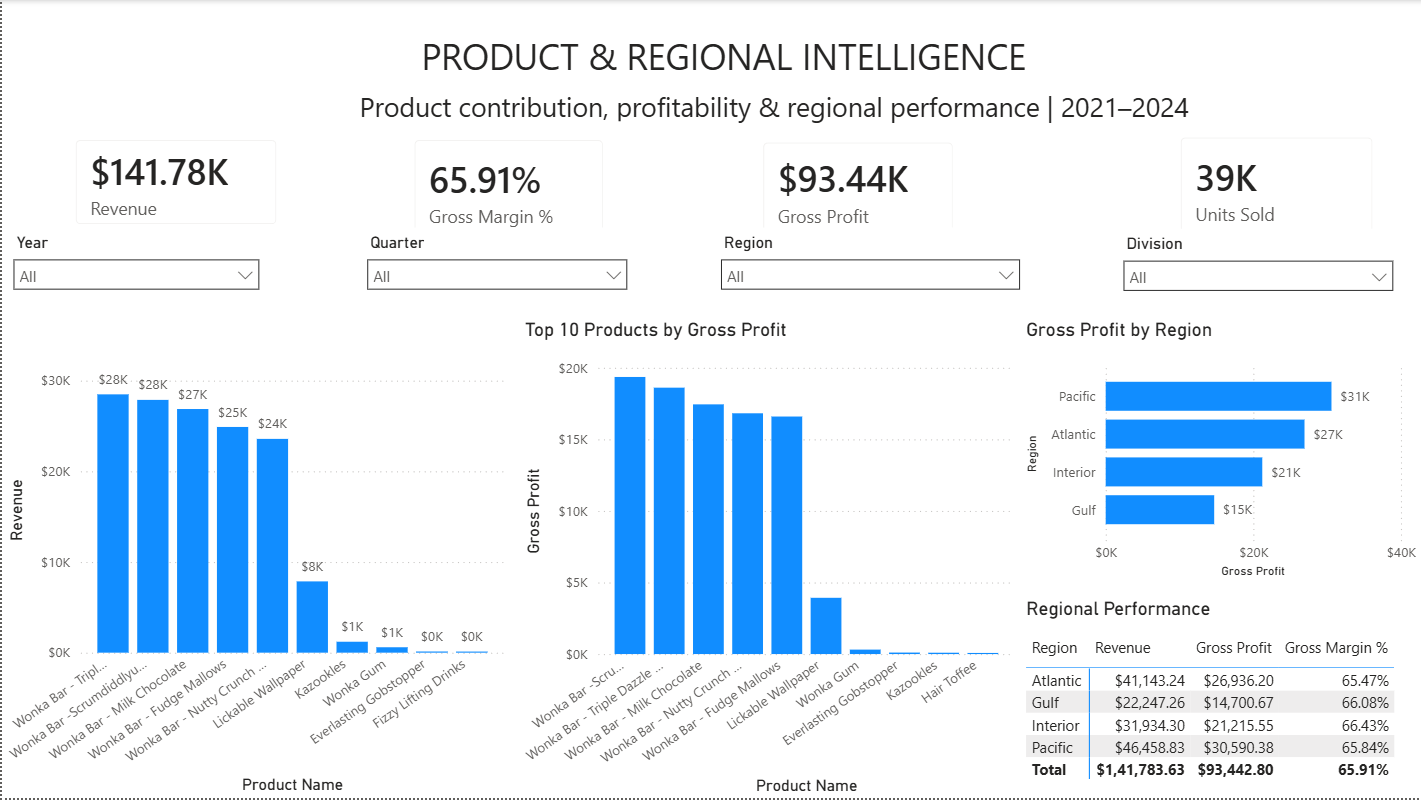

This screenshot's page, from the dashboard's own definition file:
{"tool":"powerbi","page":{"name":"│ PRODUCT & REGIONAL INTELLIGENCE                            │","canvas":[1280,720],"ordinal":2},"visuals":[{"type":"textbox","box":[365.7,23.6,571,52.2],"z":0},{"type":"textbox","box":[243.8,75.9,905.6,48.5],"z":1000},{"type":"cardVisual","fields":{"Data":["_Measures.Gross Margin %"]},"box":[355.4,109.8,204,124.4],"z":2000},{"type":"cardVisual","fields":{"Data":["_Measures.Units Sold"]},"box":[1045.6,107,207.7,124.4],"z":3000},{"type":"cardVisual","fields":{"Data":["_Measures.Revenue"]},"box":[49.4,109.8,215.2,110.7],"z":4000},{"type":"cardVisual","fields":{"Data":["_Measures.Gross Profit"]},"box":[669.6,111.1,205.3,119.4],"z":5000},{"type":"slicer","fields":{"Values":["DimDate.Date.Variation.Date Hierarchy.Quarter"]},"box":[318.5,205.3,255,111.7],"z":6000},{"type":"slicer","fields":{"Values":["DimCustomer.Region"]},"box":[638.3,205,290,111.7],"z":7000},{"type":"slicer","fields":{"Values":["DimDivision.Division"]},"box":[1001.4,206.5,263.3,111.7],"z":8000},{"type":"columnChart","title":"Product Revenue Ranking","fields":{"Category":["DimProduct.Product Name"],"Y":["_Measures.Revenue"]},"box":[0,287.4,457.8,432.9],"z":9000},{"type":"clusteredColumnChart","title":"Top 10 Products by Gross Profit","fields":{"Category":["DimProduct.Product Name"],"Y":["_Measures.Gross Profit"]},"box":[466.5,287.4,451.6,434.1],"z":10000},{"type":"clusteredBarChart","title":"Gross Profit by Region","fields":{"Y":["_Measures.Gross Profit"],"Category":["DimCustomer.Region"]},"box":[918,287.4,362,238.8],"z":11000},{"type":"pivotTable","title":"Regional Performance","fields":{"Rows":["DimCustomer.Region"],"Values":["_Measures.Revenue","_Measures.Gross Profit","_Measures.Gross Margin %"]},"box":[918,538.6,362,181.6],"z":12000},{"type":"slicer","fields":{"Values":["DimDate.Date.Variation.Date Hierarchy.Year"]},"box":[0,205.3,241.7,111.7],"z":13000}]}

Visuals, with their boxes in screenshot pixels (x1, y1, x2, y2), scaled from the page's 1280x720 canvas onto the 1421x800 screenshot:
textbox: bbox(406, 26, 1040, 84)
textbox: bbox(271, 84, 1276, 138)
cardVisual - _Measures.Gross Margin %: bbox(395, 122, 621, 260)
cardVisual - _Measures.Units Sold: bbox(1161, 119, 1391, 257)
cardVisual - _Measures.Revenue: bbox(55, 122, 294, 245)
cardVisual - _Measures.Gross Profit: bbox(743, 123, 971, 256)
slicer - DimDate.Date.Variation.Date Hierarchy.Quarter: bbox(354, 228, 637, 352)
slicer - DimCustomer.Region: bbox(709, 228, 1031, 352)
slicer - DimDivision.Division: bbox(1112, 229, 1404, 354)
"Product Revenue Ranking" columnChart: bbox(0, 319, 508, 799)
"Top 10 Products by Gross Profit" clusteredColumnChart: bbox(518, 319, 1019, 799)
"Gross Profit by Region" clusteredBarChart: bbox(1019, 319, 1420, 585)
"Regional Performance" pivotTable: bbox(1019, 598, 1420, 799)
slicer - DimDate.Date.Variation.Date Hierarchy.Year: bbox(0, 228, 268, 352)
